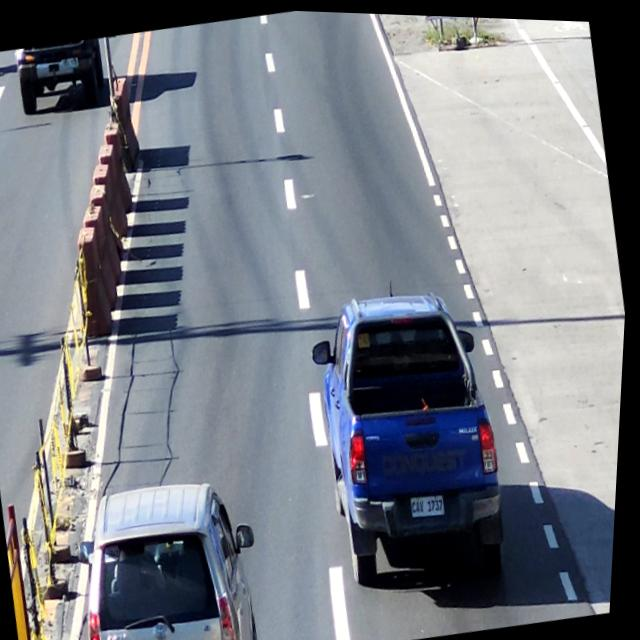Car: (303, 272, 532, 593), (72, 469, 276, 640), (13, 34, 111, 114)
License-Plate: (410, 483, 453, 519)
